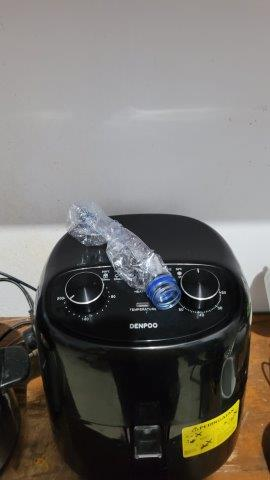botolplastik: (66, 196, 181, 308)
